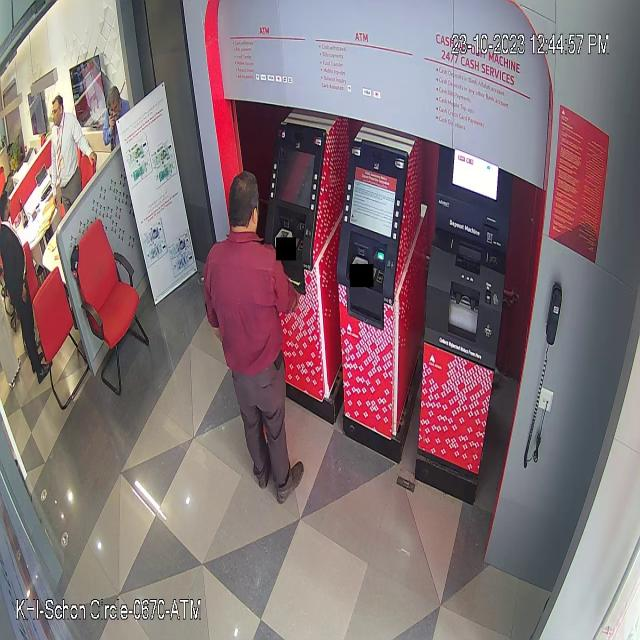note: (280, 264, 299, 293)
